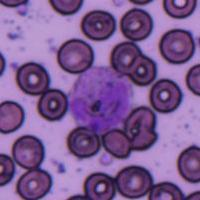E: (67, 64, 134, 135)
